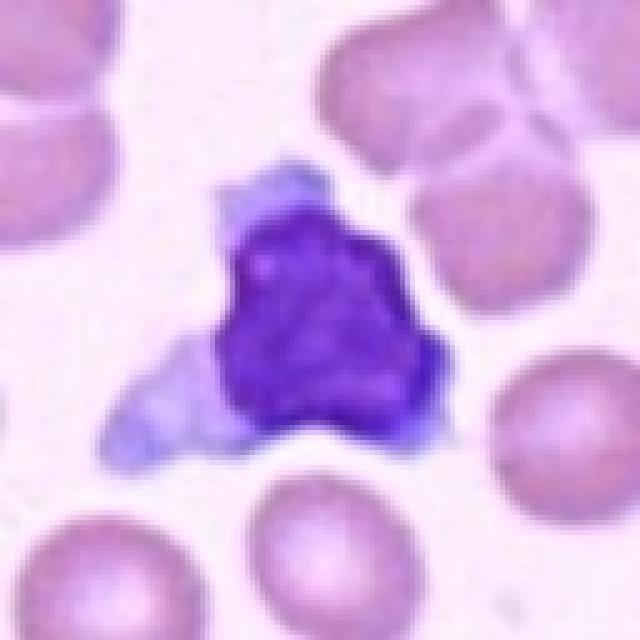lympho: (95, 153, 457, 475)
